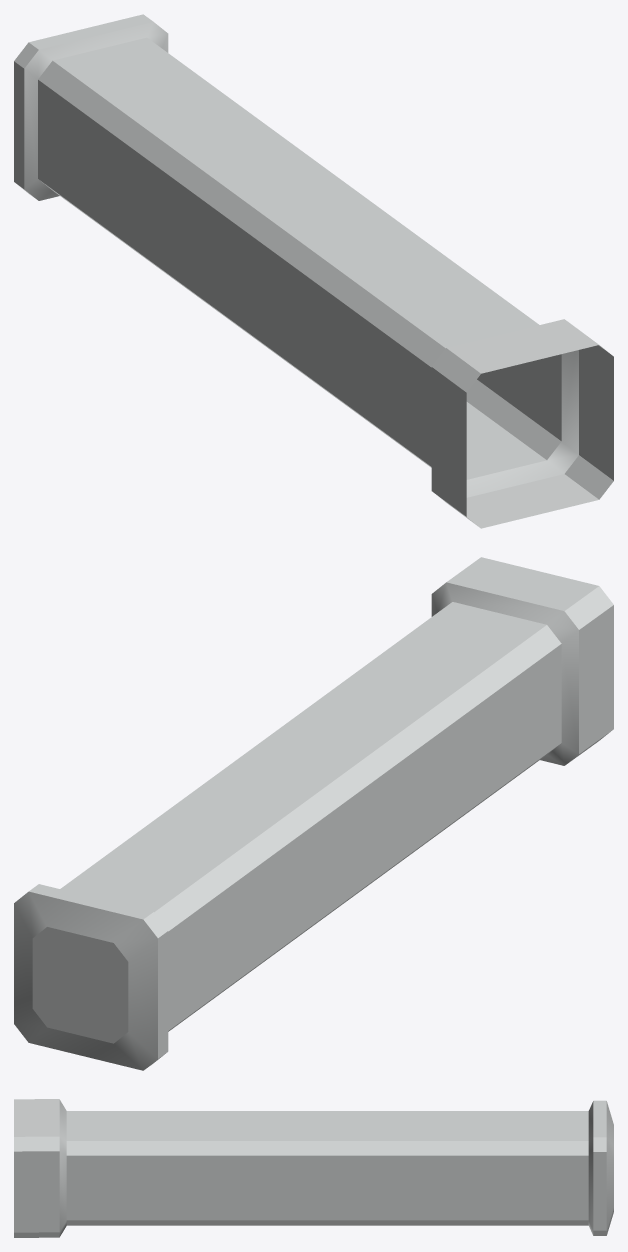
File: Pillar 01.FBX
3 views of the same model, one above another, from view 1: azimuth 30°, elevation 25°; view 2: azimuth 150°, elevation 25°; view 3: azimuth 270°, elevation 25° (orthographic). The views are drawn at different scales.
Visible parts, largest first — view 1: Pillar 01; view 2: Pillar 01; view 3: Pillar 01.
Part boxes in pixels (box(x1,y1,x2,y2)): Pillar 01: box(14, 14, 613, 528); Pillar 01: box(14, 557, 613, 1070); Pillar 01: box(14, 1099, 613, 1237).
Bounding box in the file's own units: 48.97 × 49.26 × 265.
1 material, 1 textured.
